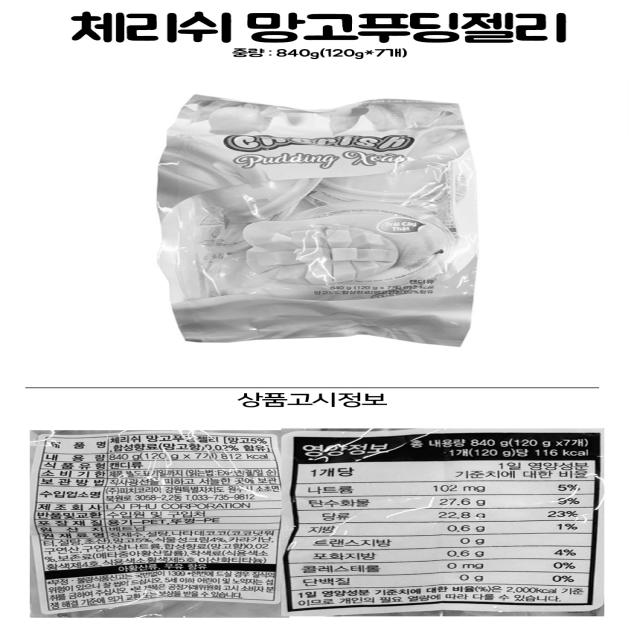Nutrition Label: (275, 426, 614, 629)
